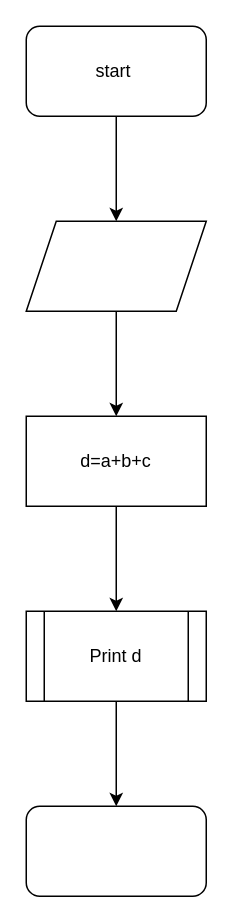
This 233x923 diagram has some shape labels left out. Each missing label, with the centre of its shape:
"End" goes at pixel 115 850.
"input a,b,c+" goes at pixel 115 265.
